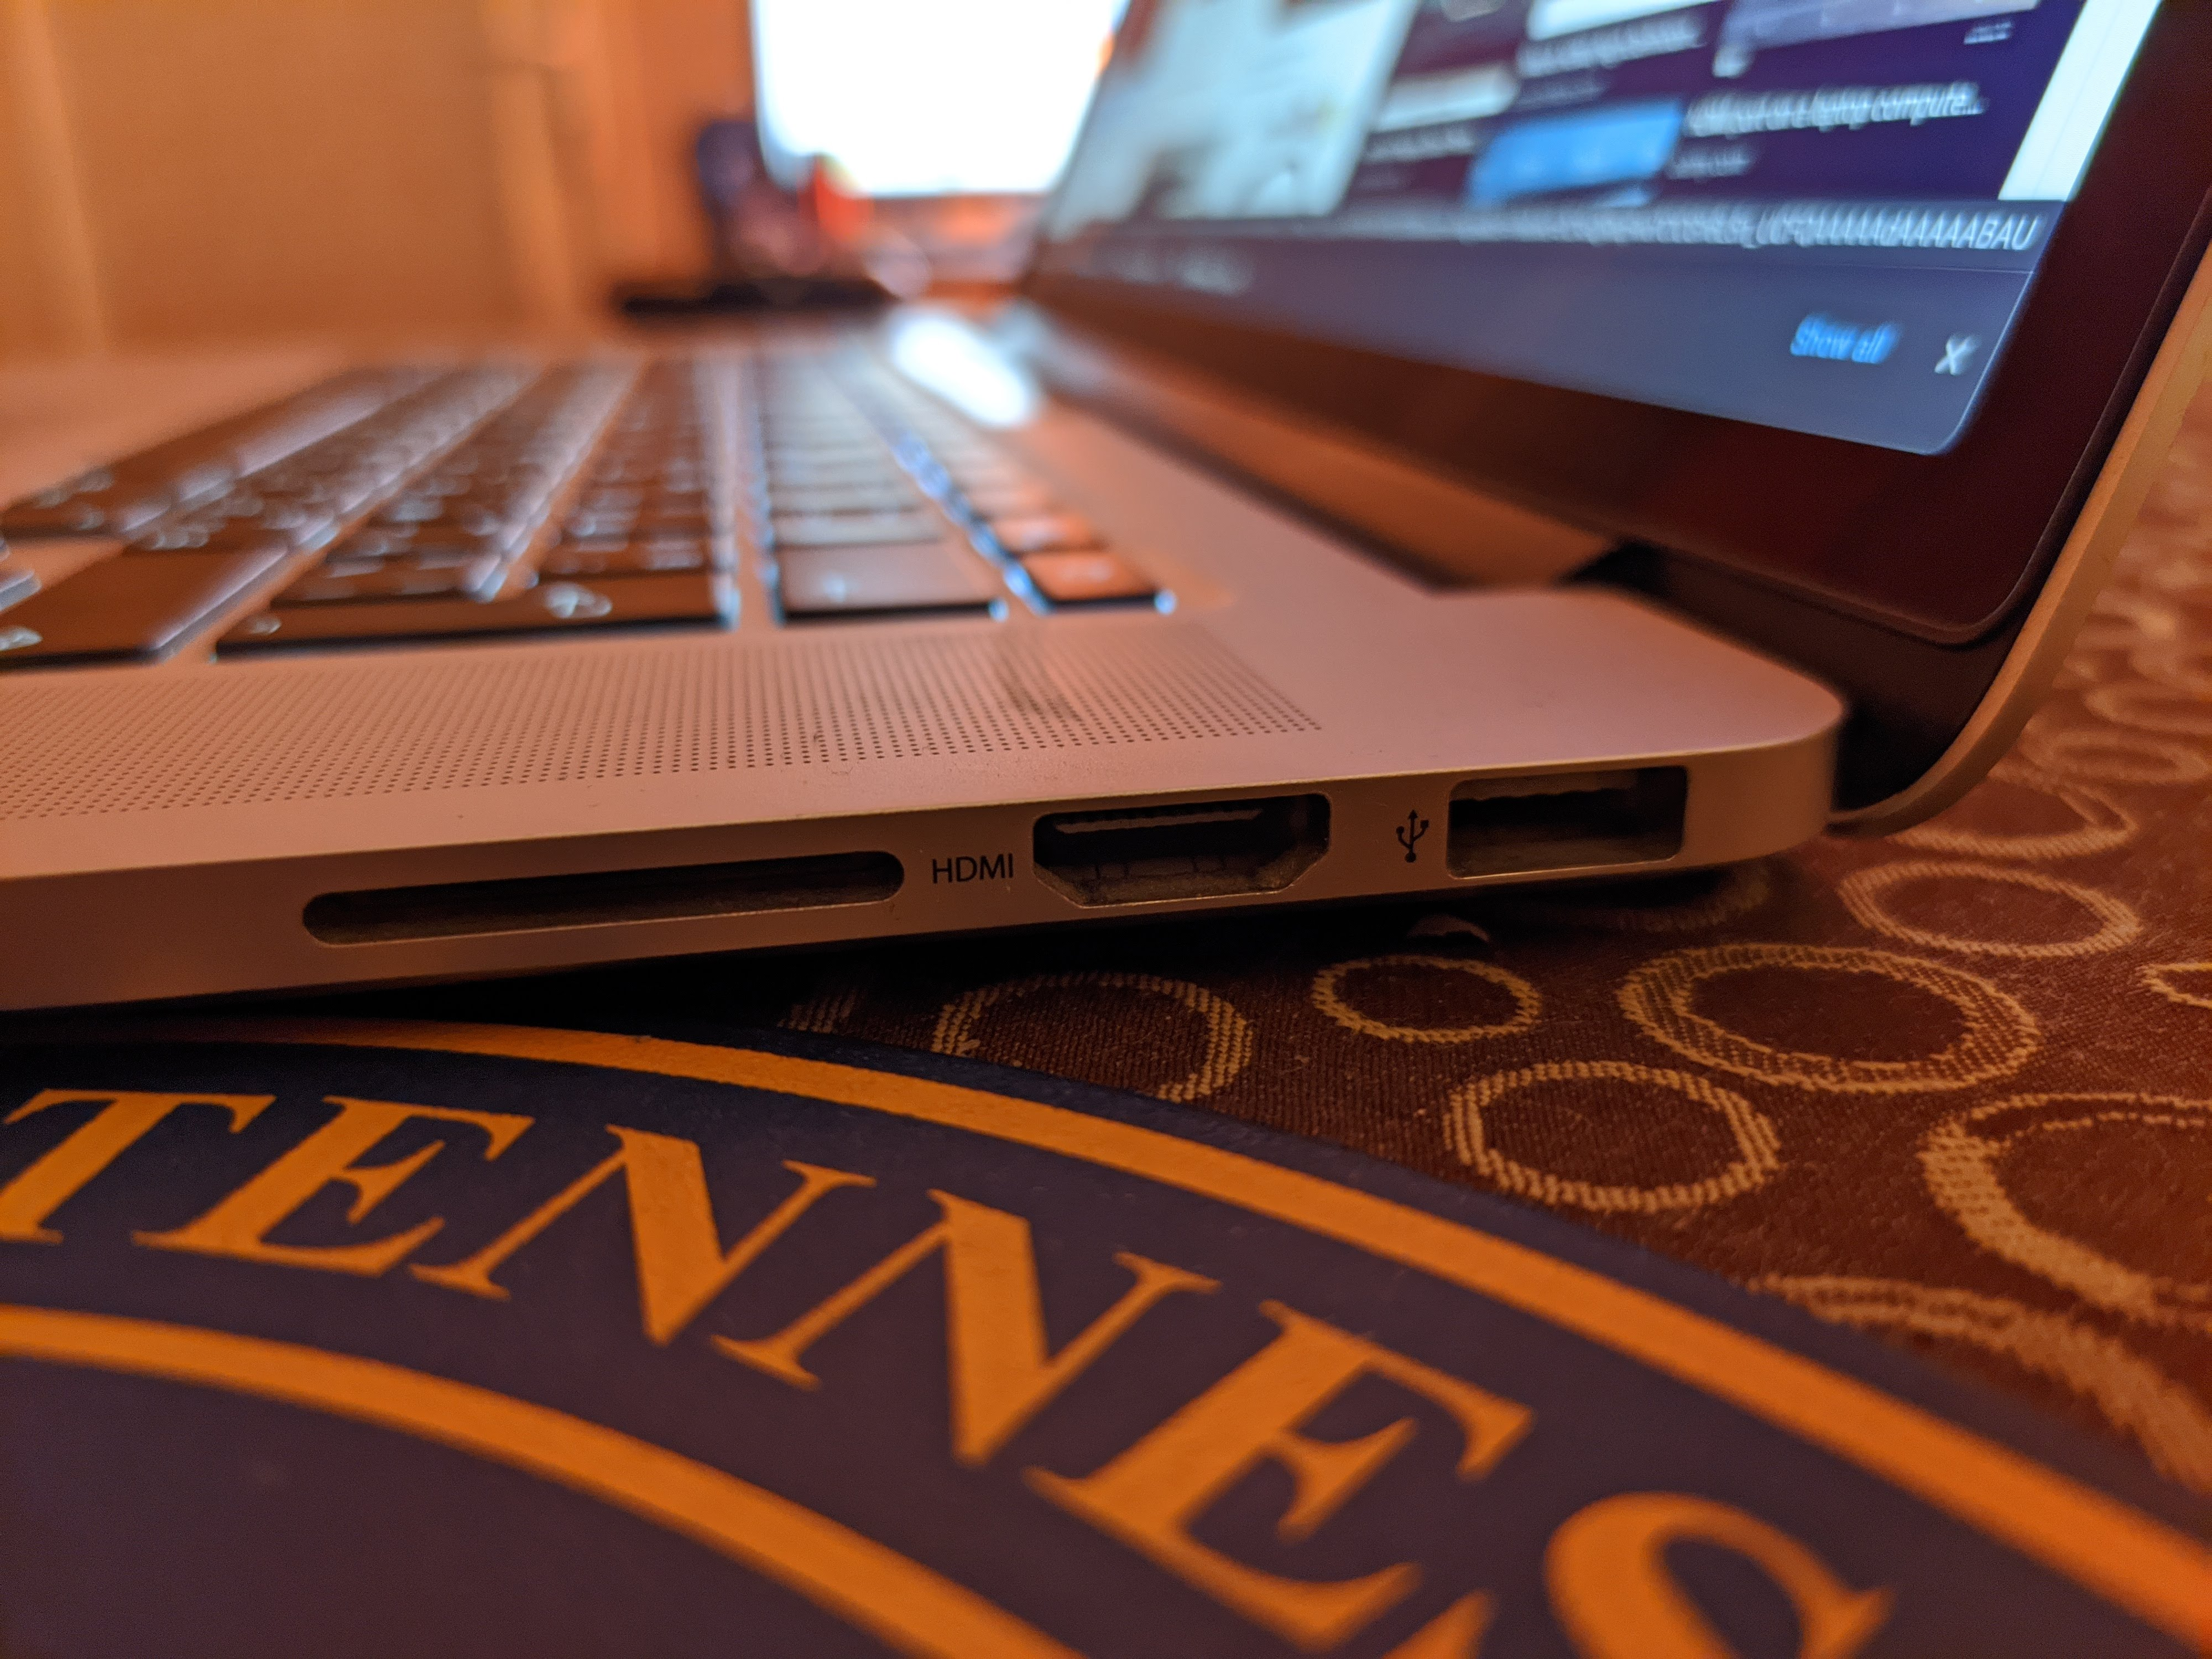hdmi_in: (1028, 786, 1339, 913)
usbport_in: (1439, 756, 1695, 887)
